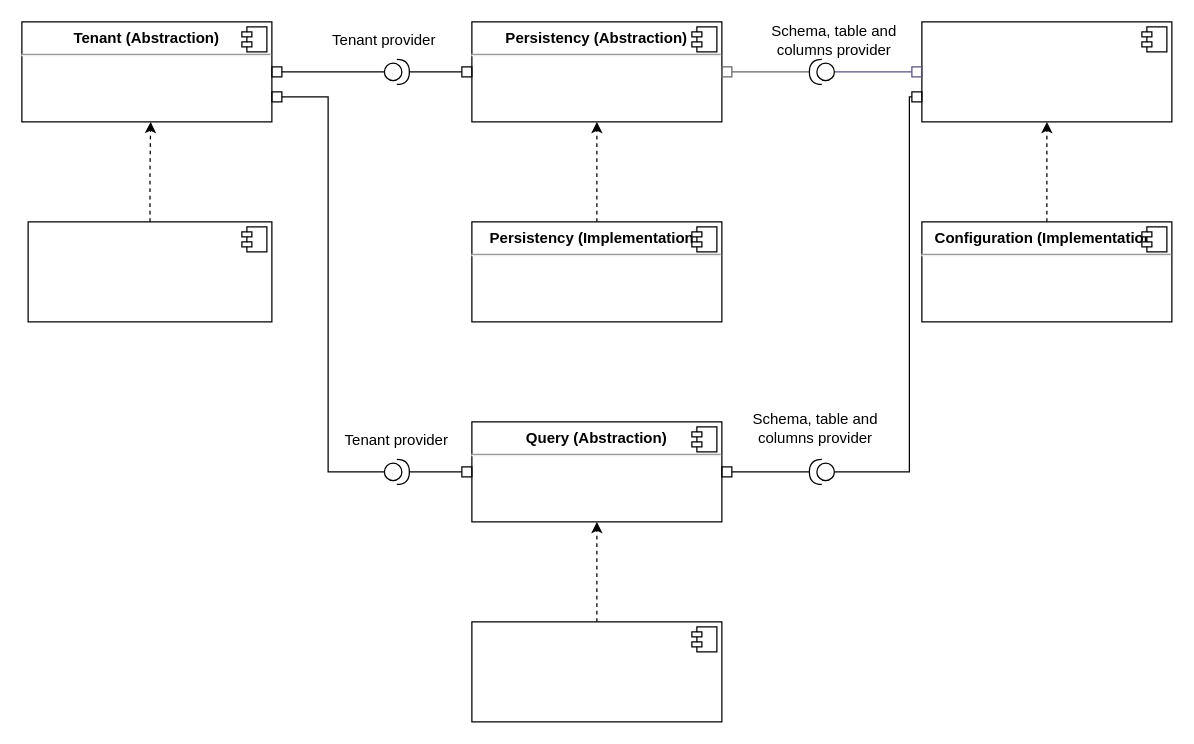
Image size: 1194x744. Some labels were removed from this diagram. The centre of each missing label's shape, as x and y in pixels:
"Configuration (Abstraction)" goes at point (1046, 71).
"Query (Implementation)" goes at point (596, 671).
"Tenant (Implementation)" goes at point (149, 271).
